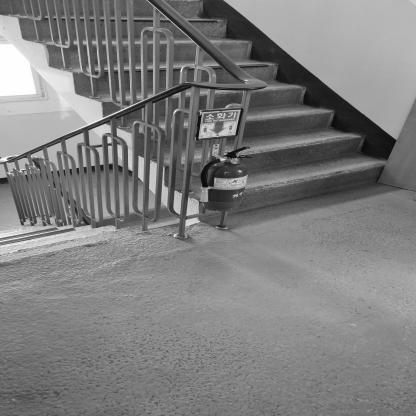FE: (201, 146, 250, 212)
